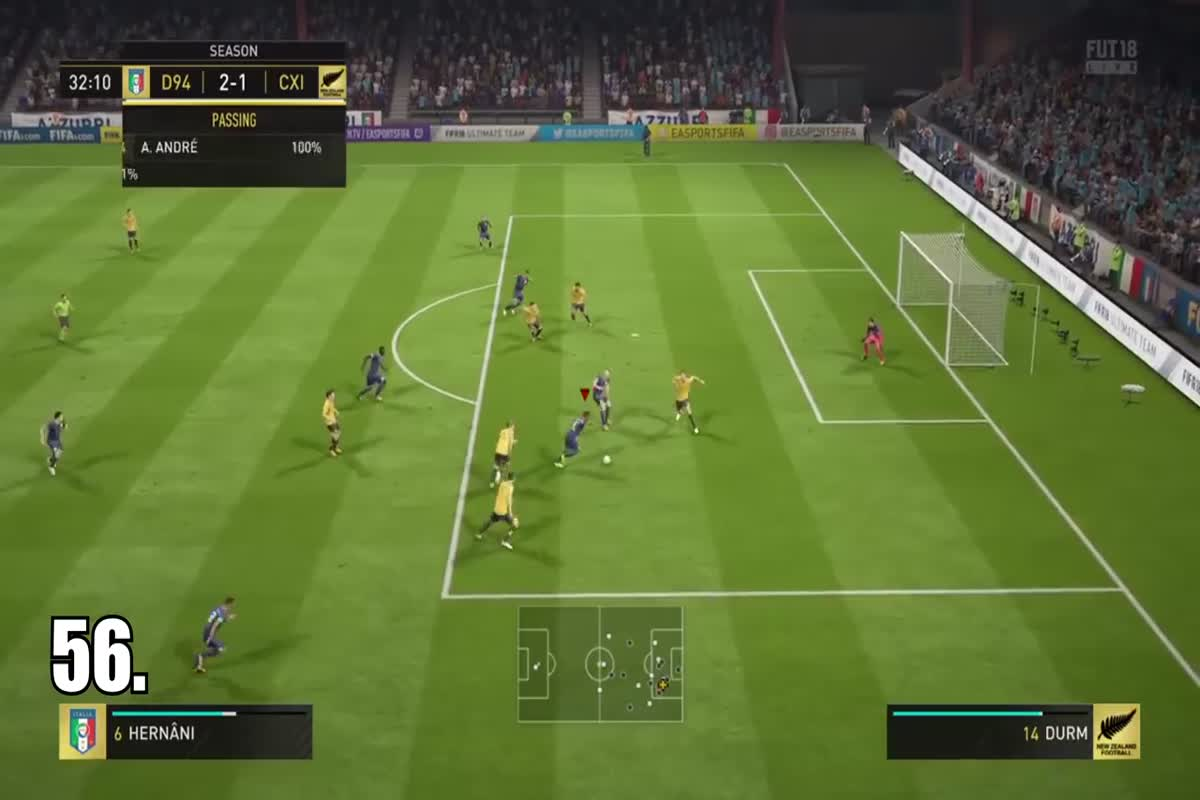ball: (596, 449, 617, 472)
